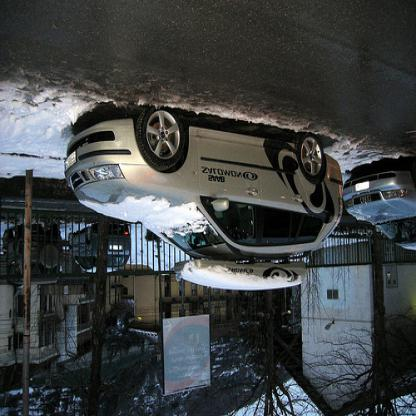car: (63, 105, 344, 292), (343, 157, 416, 253), (4, 225, 64, 288), (68, 227, 132, 275)
